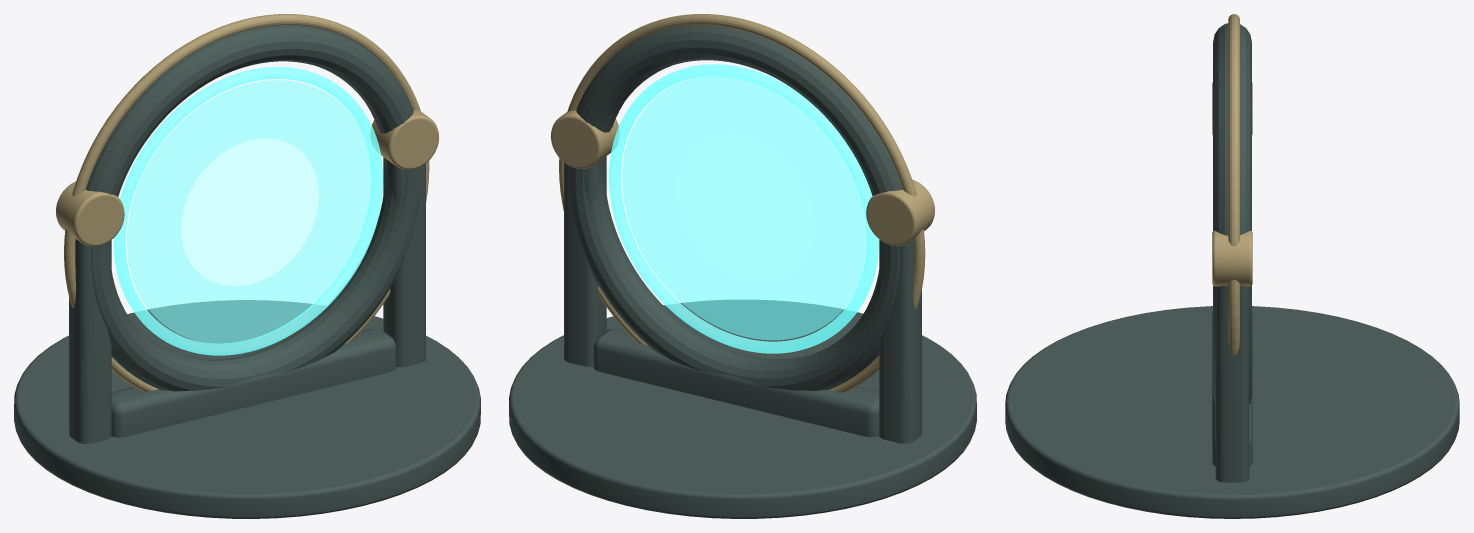
File: EscapePortal.fbx
The picture shows the model from 3 angles, left to right: view 1: azimuth 30°, elevation 25°; view 2: azimuth 150°, elevation 25°; view 3: azimuth 270°, elevation 25°; orthographic projection. The views are drawn at different scales.
Visible parts, largest first — view 1: Portal base plinth, Portal energy surface, Portal outer ring, Portal soft core, Portal inner glow rim, Portal low threshold, Portal left upright, Portal brass trim, Portal right upright, Portal left cap, Portal right cap; view 2: Portal base plinth, Portal energy surface, Portal outer ring, Portal soft core, Portal inner glow rim, Portal low threshold, Portal brass trim, Portal left upright, Portal right upright, Portal left cap, Portal right cap; view 3: Portal base plinth, Portal outer ring, Portal right upright, Portal brass trim, Portal right cap, Portal low threshold.
Boxes of the visible parts, x1,y1,x2,y2 form: Portal base plinth: [14, 300, 480, 518]; Portal energy surface: [127, 80, 372, 343]; Portal outer ring: [75, 25, 421, 391]; Portal soft core: [181, 138, 318, 285]; Portal inner glow rim: [113, 67, 383, 355]; Portal low threshold: [111, 329, 396, 437]; Portal left upright: [69, 239, 111, 443]; Portal brass trim: [64, 14, 429, 391]; Portal right upright: [383, 157, 425, 367]; Portal left cap: [55, 181, 124, 246]; Portal right cap: [371, 110, 439, 169]; Portal base plinth: [509, 300, 976, 518]; Portal energy surface: [622, 76, 866, 340]; Portal outer ring: [568, 25, 902, 390]; Portal soft core: [677, 134, 813, 281]; Portal inner glow rim: [609, 64, 879, 353]; Portal low threshold: [593, 328, 879, 437]; Portal brass trim: [559, 14, 925, 392]; Portal left upright: [879, 239, 921, 443]; Portal right upright: [564, 156, 606, 366]; Portal left cap: [866, 179, 934, 245]; Portal right cap: [550, 110, 619, 168]; Portal base plinth: [1005, 306, 1459, 518]; Portal outer ring: [1213, 23, 1251, 403]; Portal right upright: [1215, 285, 1249, 482]; Portal brass trim: [1228, 14, 1239, 355]; Portal right cap: [1212, 230, 1252, 286]; Portal low threshold: [1212, 313, 1252, 466].
Bounding box in the file's own units: 270 × 257 × 270.
